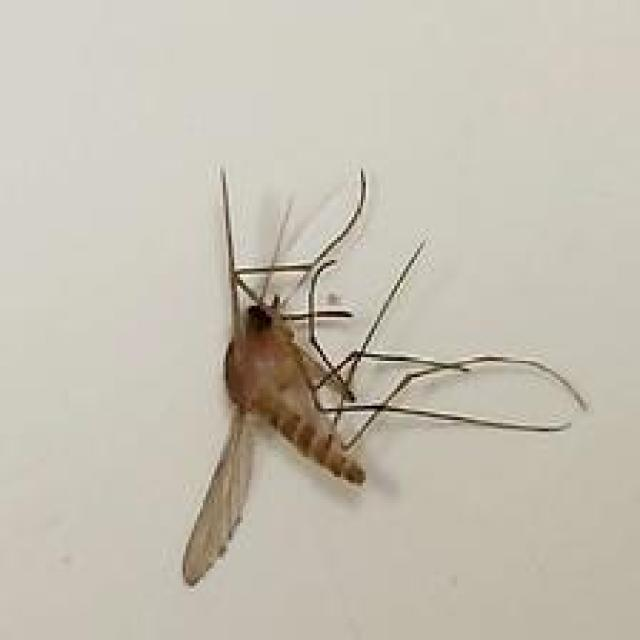Culex: (180, 163, 589, 588)
